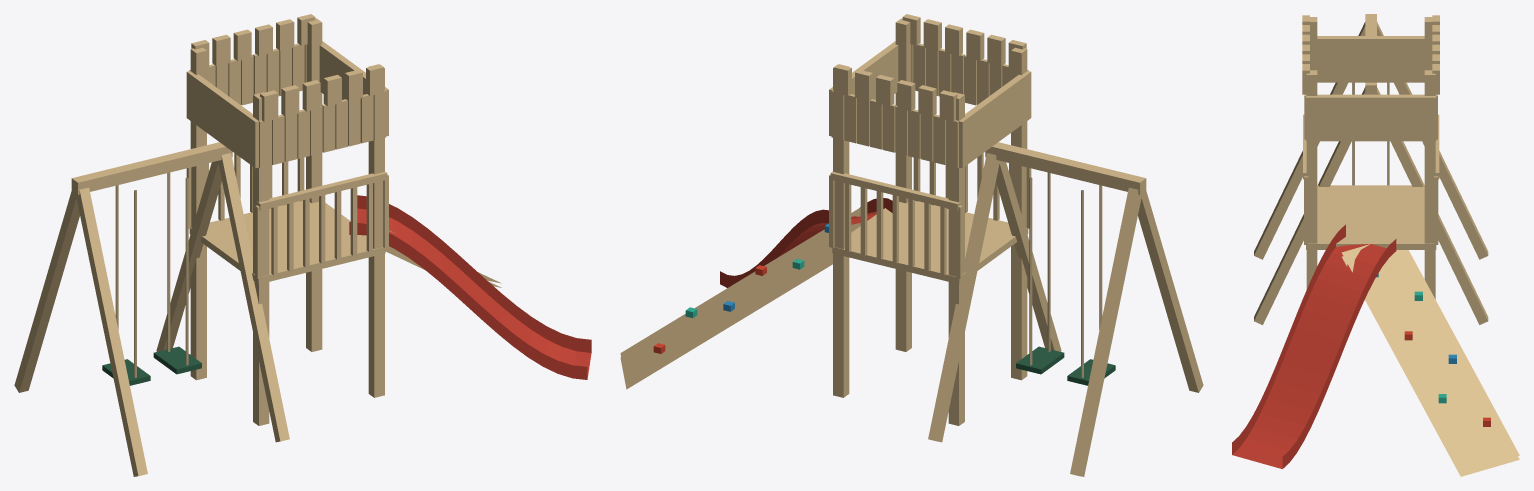
3 views of the same model, side by side, from view 1: azimuth 30°, elevation 25°; view 2: azimuth 150°, elevation 25°; view 3: azimuth 270°, elevation 25° (orthographic). The views are drawn at different scales.
Parts seen in each view (by area): view 1: SW-T201; view 2: SW-T201; view 3: SW-T201.
Boxes of the visible parts, x1=… form: SW-T201: x1=14, y1=14, x2=591, y2=476; SW-T201: x1=620, y1=14, x2=1203, y2=476; SW-T201: x1=1232, y1=14, x2=1519, y2=476.
Bounding box in the file's own units: 4.5 × 3 × 2.5.
